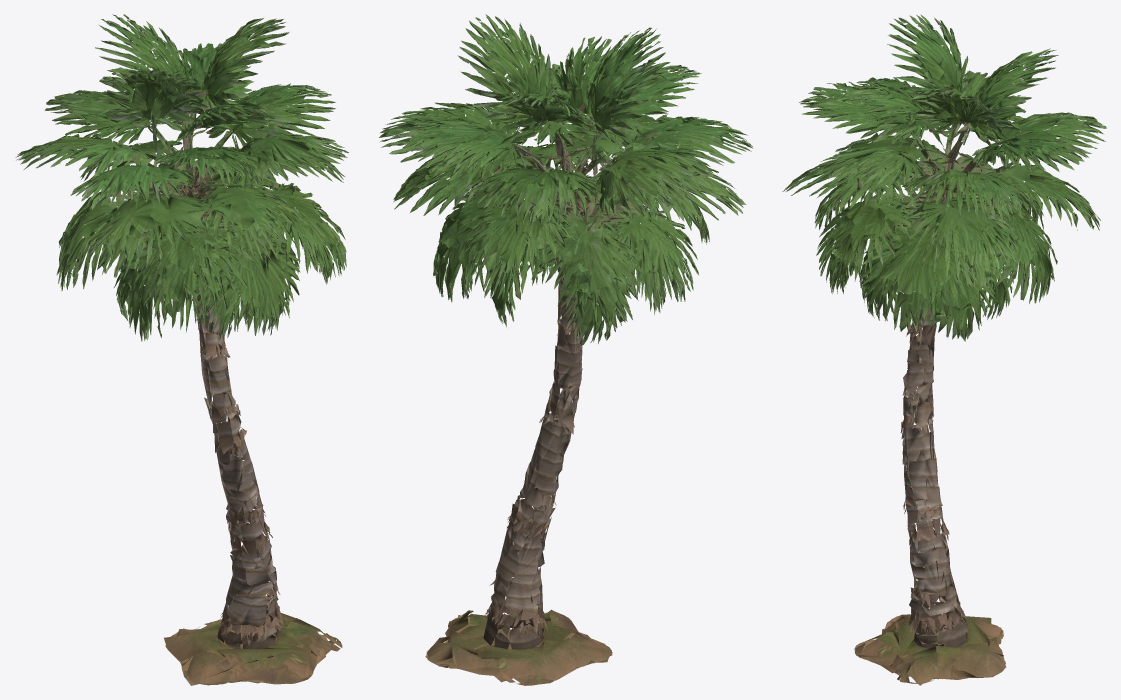
Rendered from neon-palm.glb.
3 renders of one model, left to right at view 1: azimuth 30°, elevation 25°; view 2: azimuth 150°, elevation 25°; view 3: azimuth 270°, elevation 25°, orthographic. The views are drawn at different scales.
Parts seen in each view (by area): view 1: palm_40k; view 2: palm_40k; view 3: palm_40k.
Boxes of the visible parts, x1,y1,x2,y2 form: palm_40k: (15, 14, 348, 685); palm_40k: (379, 14, 753, 685); palm_40k: (782, 14, 1106, 685).
Bounding box in the file's own units: 5.14 × 10 × 4.96.
1 material, 1 textured.
